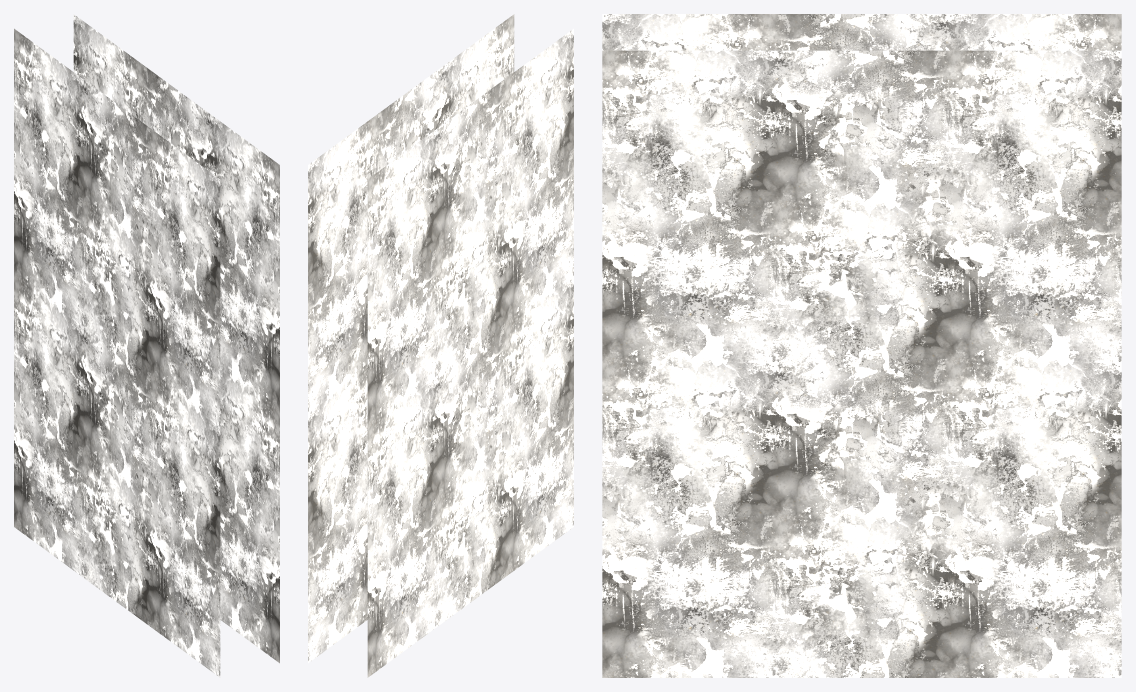
File: SM_wall_A_3x4_01_01.fbx
The picture shows the model from 3 angles, left to right: view 1: azimuth 30°, elevation 25°; view 2: azimuth 150°, elevation 25°; view 3: azimuth 270°, elevation 25°; orthographic projection. The views are drawn at different scales.
Visible parts, largest first — view 1: SM_wall_A_3x4_01_01_LOD0; view 2: SM_wall_A_3x4_01_01_LOD0; view 3: SM_wall_A_3x4_01_01_LOD0.
Part boxes in pixels (box(x1,y1,x2,y2)): SM_wall_A_3x4_01_01_LOD0: box(14, 14, 279, 677); SM_wall_A_3x4_01_01_LOD0: box(308, 14, 573, 677); SM_wall_A_3x4_01_01_LOD0: box(602, 14, 1121, 677).
Bounding box in the file's own units: 50 × 300 × 400.
Materials: 2 (2 with a texture image).
